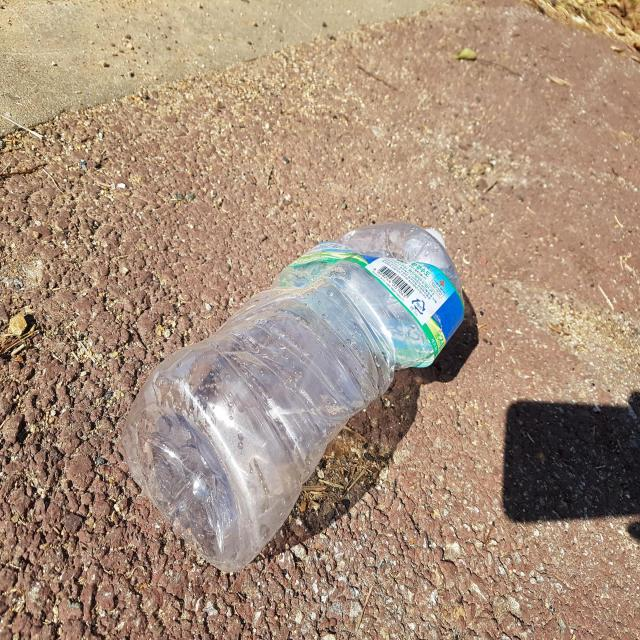plastic: (121, 222, 465, 572)
